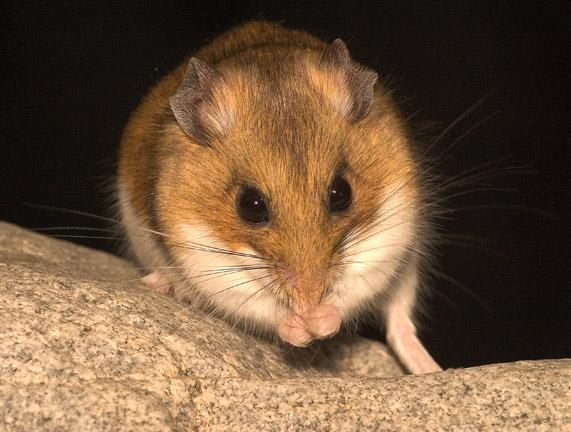rat: (119, 20, 443, 373)
